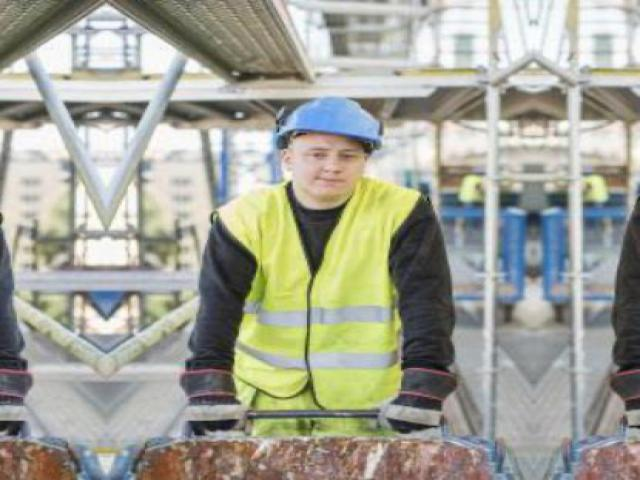Helmet: (269, 90, 388, 166)
